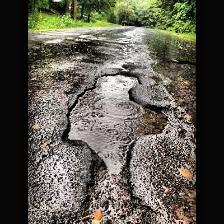pothole: (60, 70, 170, 172)
